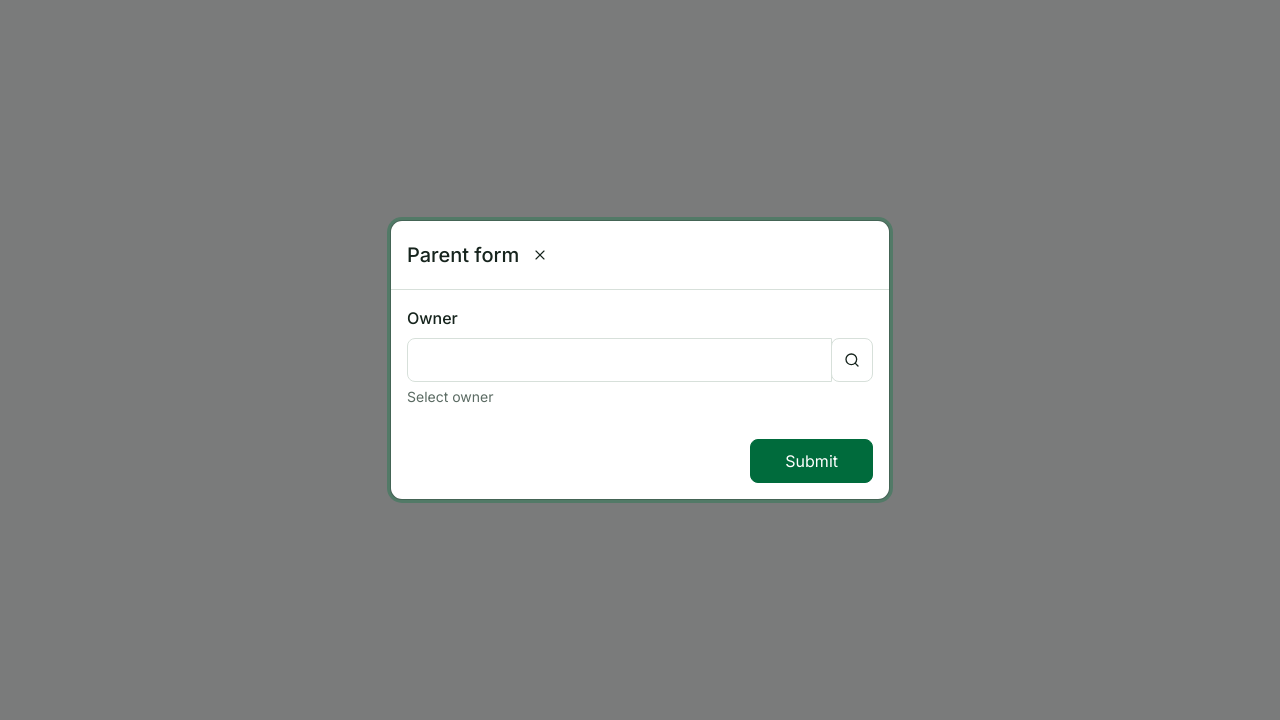
Scenario: Lookup selected value survives field-level server validation with associated error text
Click the button named "Lookup Owner" at [852, 360], box left=831, top=338, right=873, bottom=382
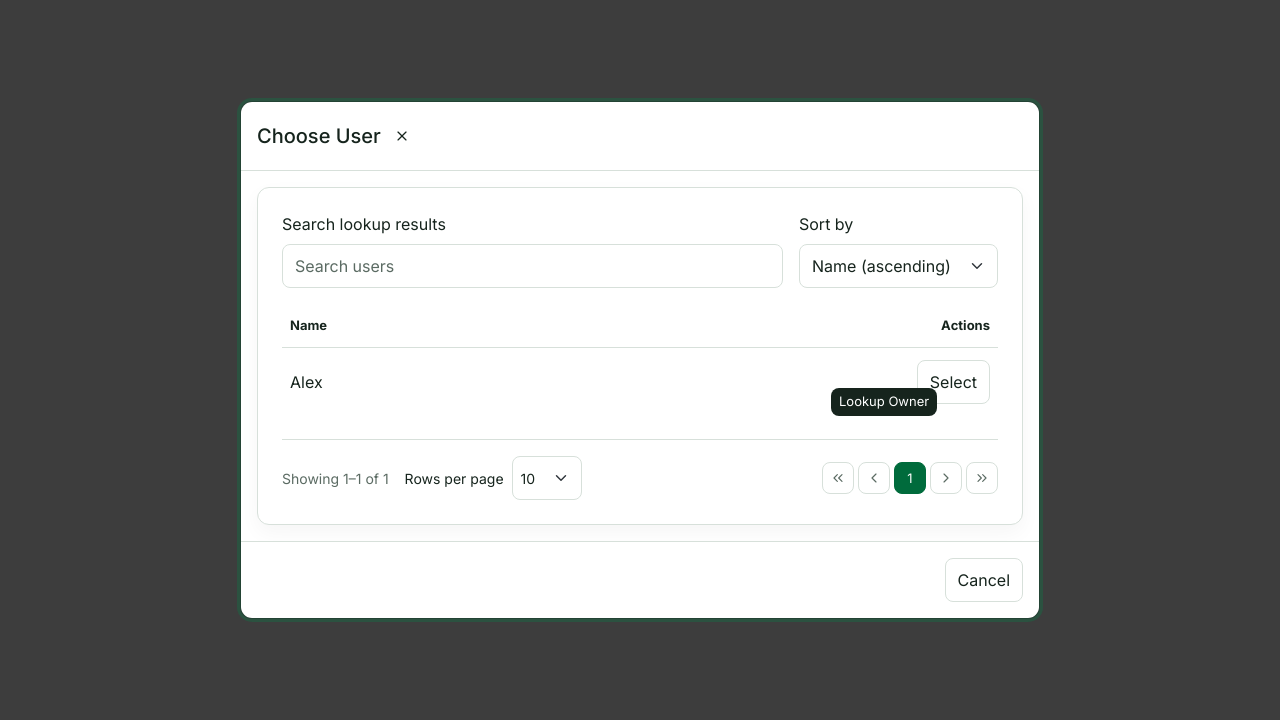
Click the button with aria-label "Select Alex" at [953, 382], box left=917, top=360, right=990, bottom=404
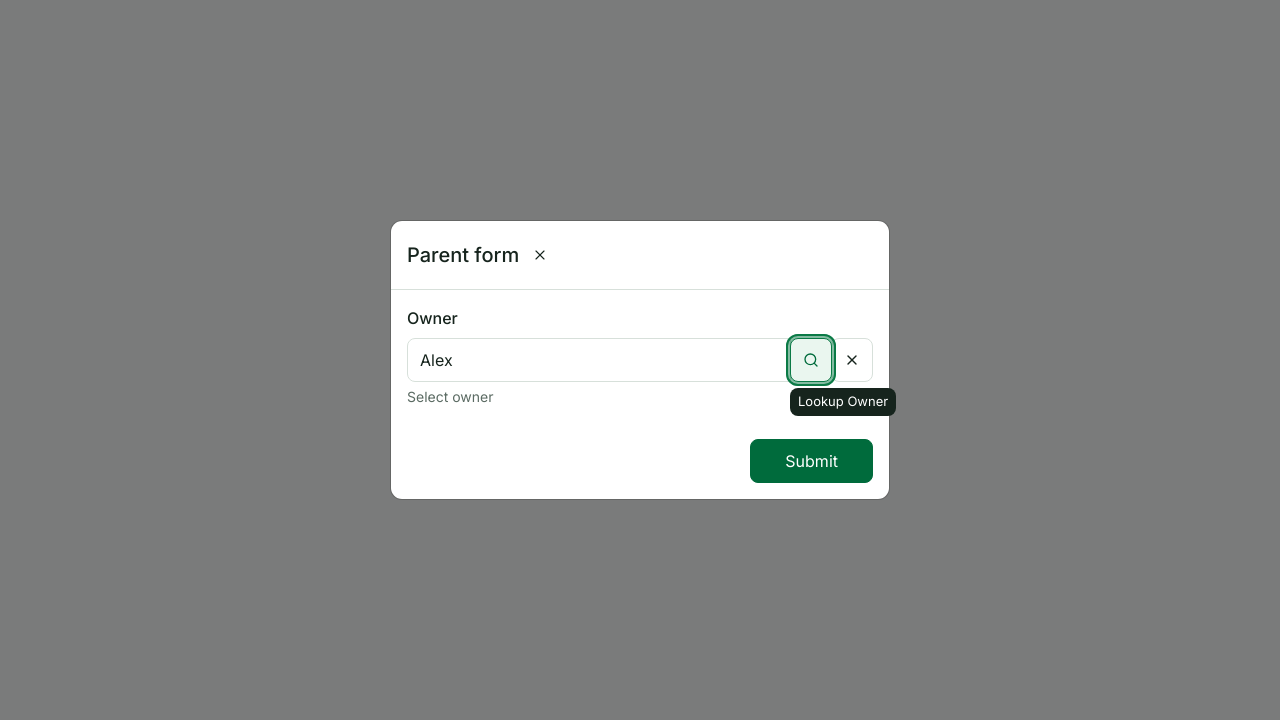
Click the button "Submit" at [812, 461], box left=750, top=439, right=873, bottom=483
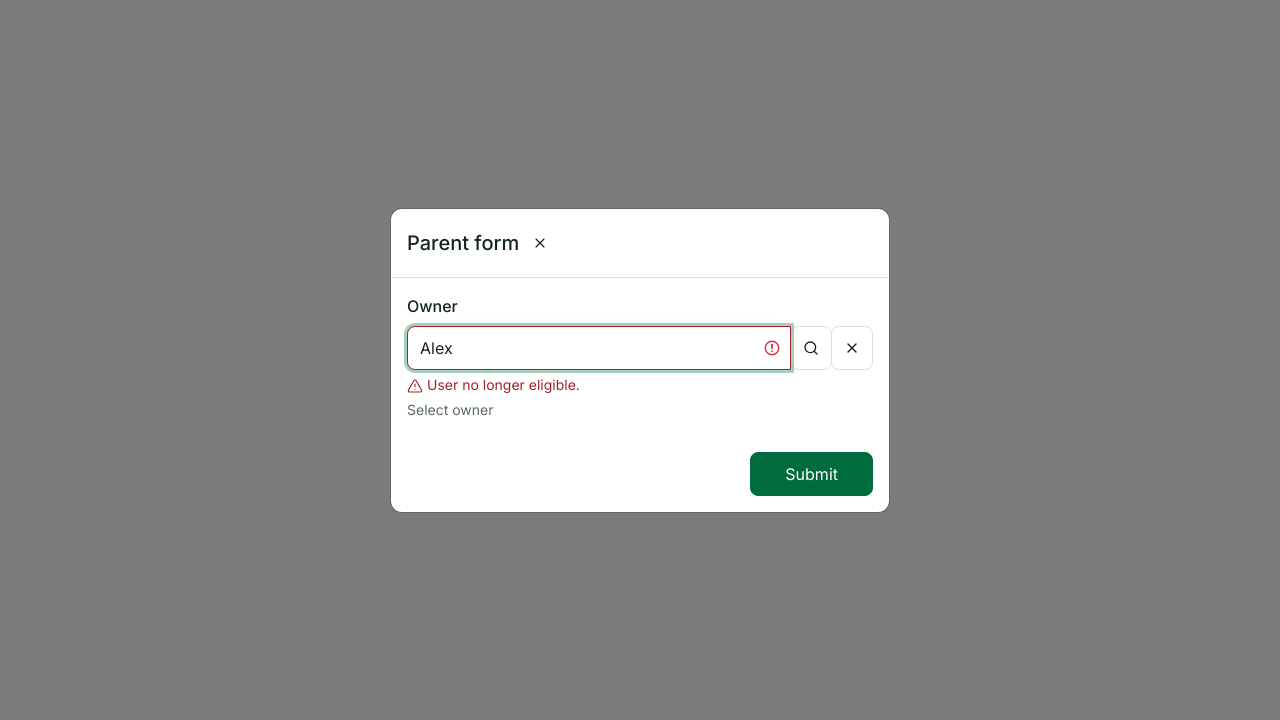
Check: the field labelled "Owner" holds "Alex", box left=407, top=326, right=791, bottom=370
Check: the element showing "User no longer eligible." is shown, box left=407, top=376, right=580, bottom=394
